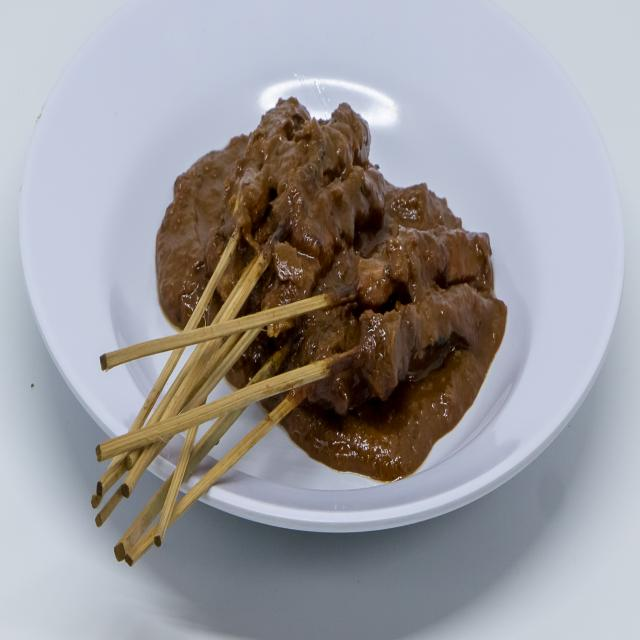Sate-Ayam: (184, 79, 502, 432)
